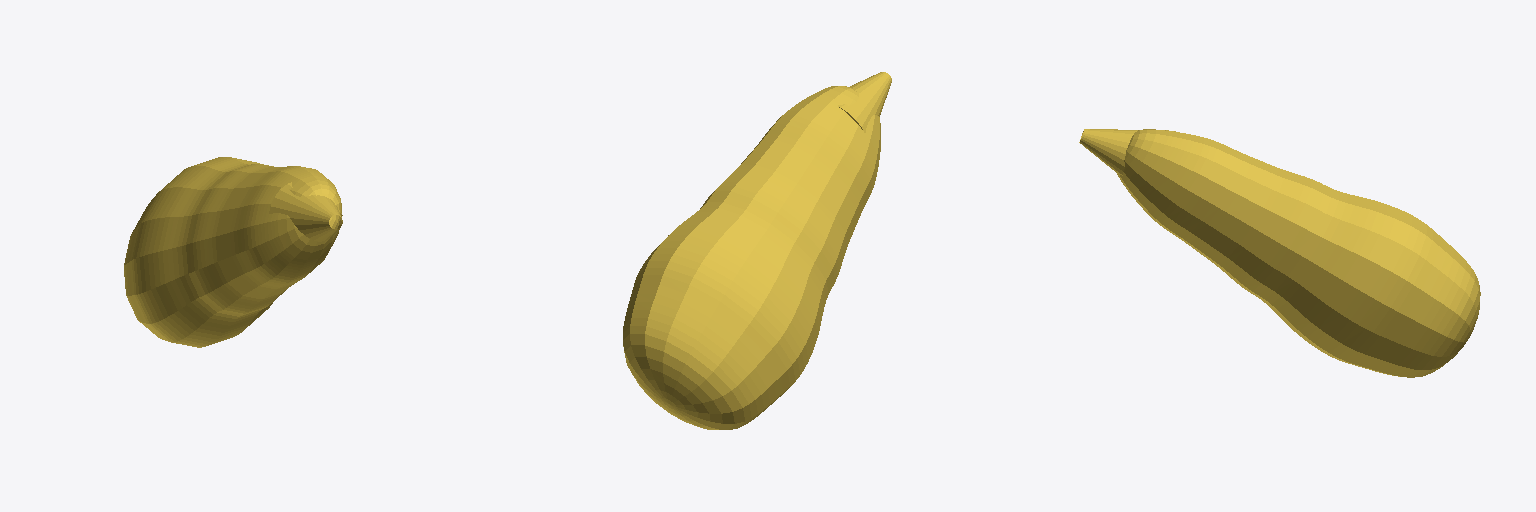
File: gallbladderGREENNEWEST2.obj
3 views of the same model, side by side, from view 1: azimuth 30°, elevation 25°; view 2: azimuth 150°, elevation 25°; view 3: azimuth 270°, elevation 25° (orthographic).
Parts seen in each view (by area): view 1: GallBladder; view 2: GallBladder; view 3: GallBladder.
Boxes of the visible parts, box(x1,y1,x2,y2) form: GallBladder: box(124, 157, 342, 347); GallBladder: box(623, 72, 891, 429); GallBladder: box(1079, 129, 1480, 377).
Size of the model in its own units: 1.15 by 1.82 by 2.72.